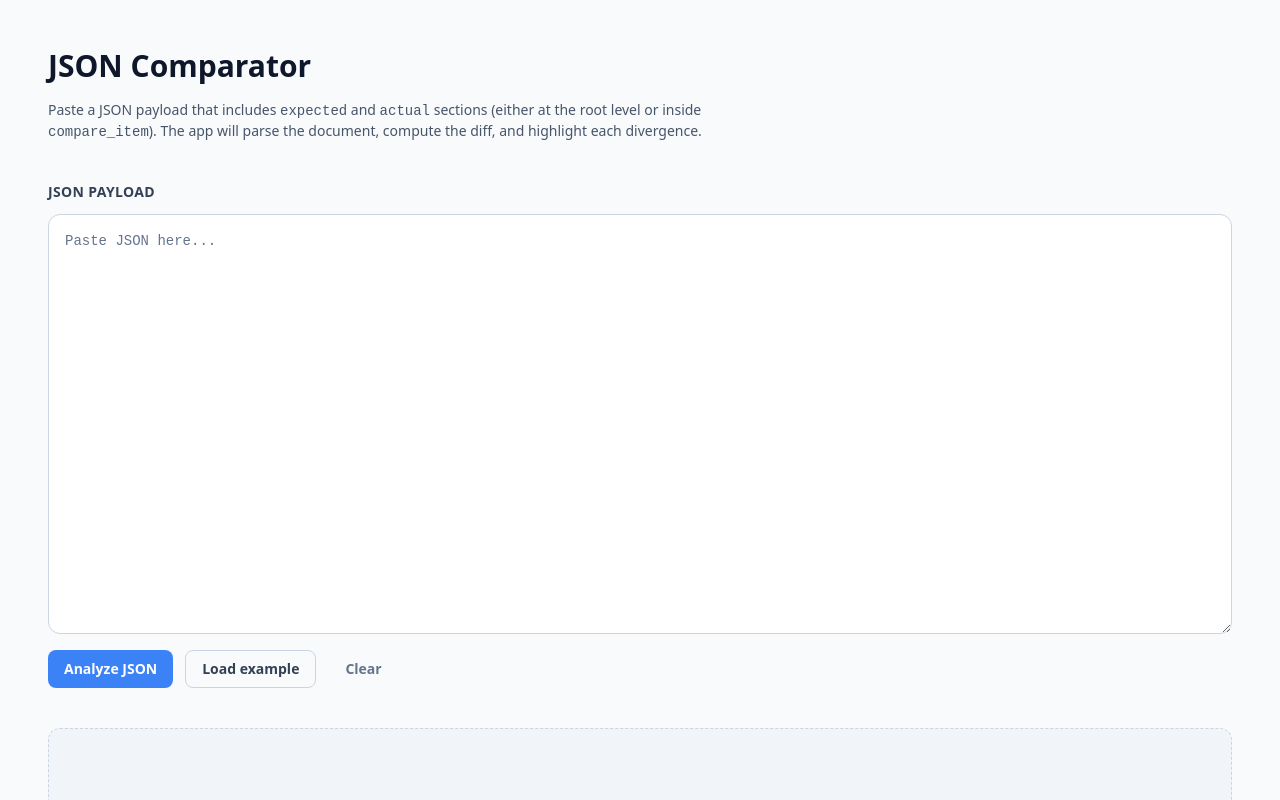
Test: App › presents an error when the JSON payload is invalid
In the text box labelled "JSON Payload": (640, 424) top-left (48, 214), bottom-right (1232, 634), type "not json"
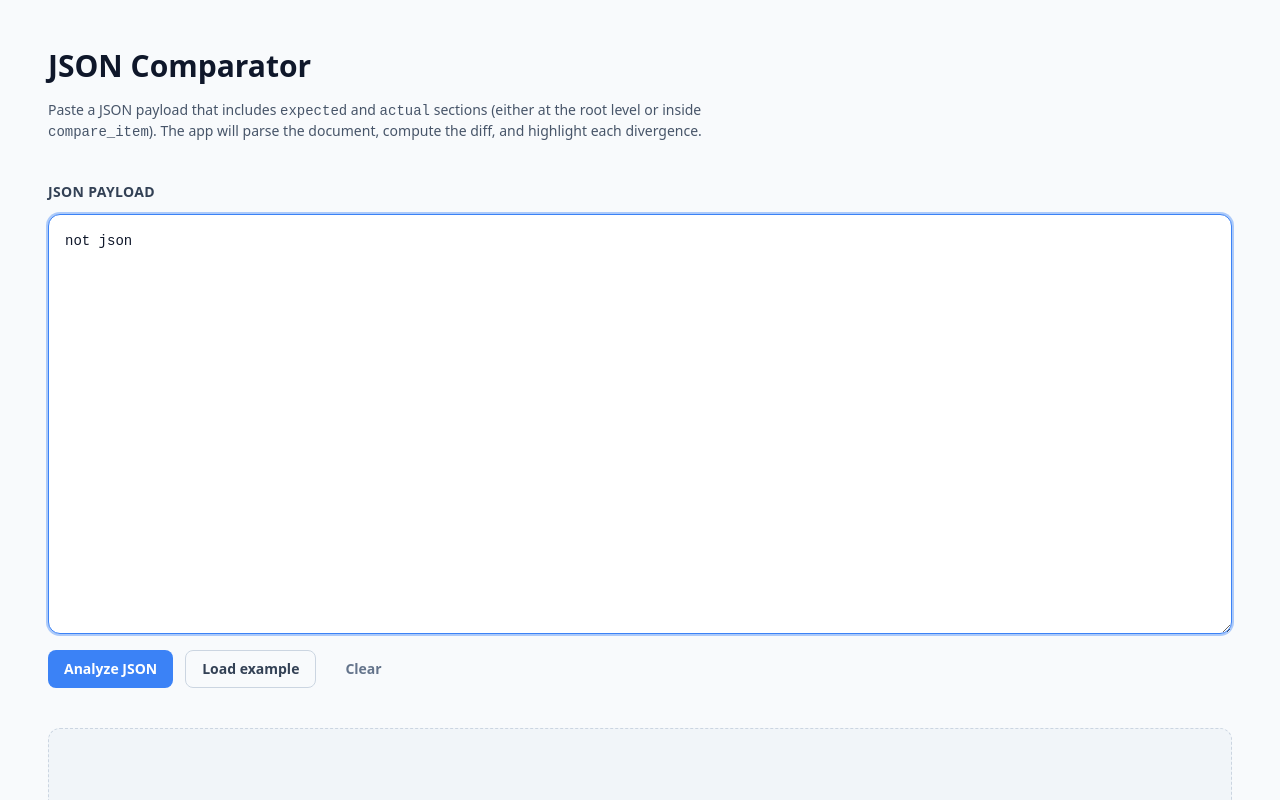
Click the button "Analyze JSON": (111, 669) top-left (48, 650), bottom-right (173, 688)
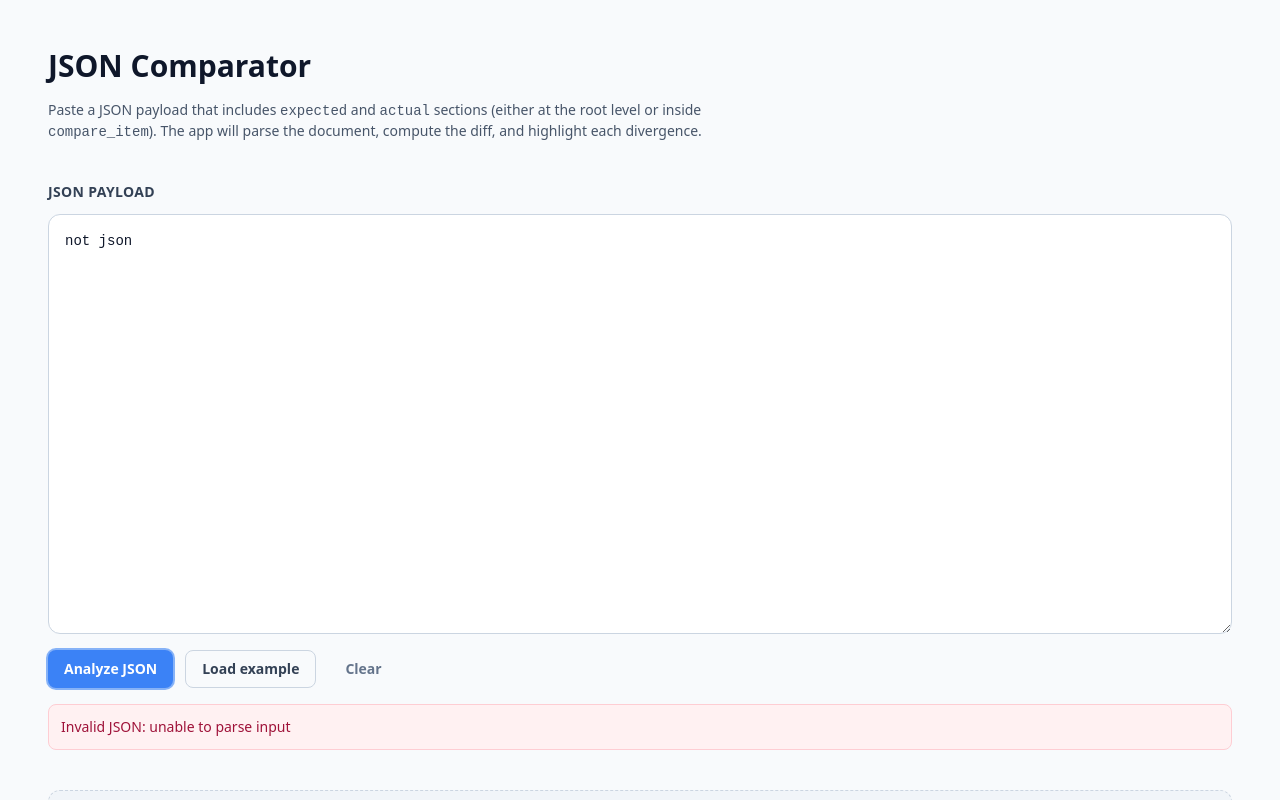
Expected: the text "Invalid JSON: unable to parse input" is shown, top-left (48, 704), bottom-right (1232, 750)
